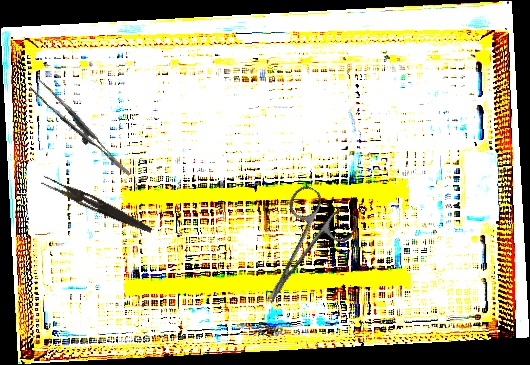Dressing Forceps: (39, 175, 155, 235)
Iris Scissors: (236, 181, 363, 321)
Tissue Forceps: (29, 70, 131, 191)
